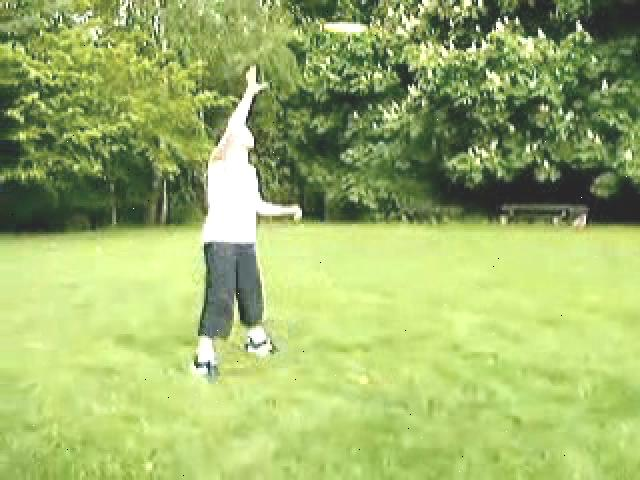T: (168, 48, 306, 385)
